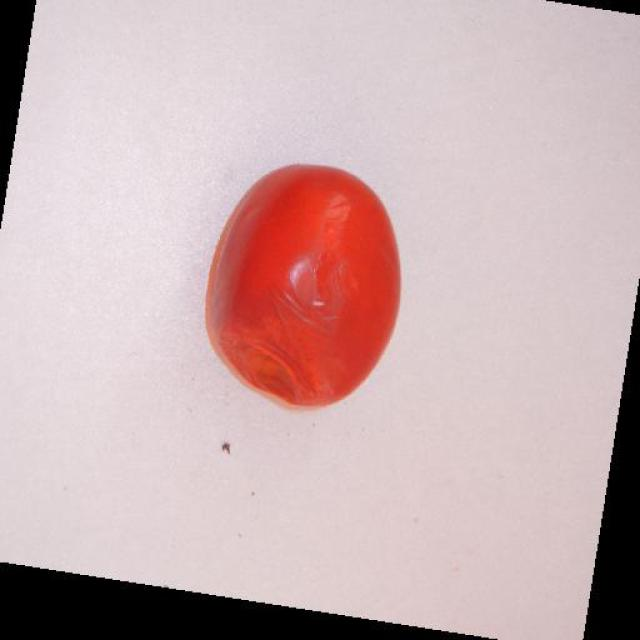Stale_tomato: (222, 254, 338, 416)
